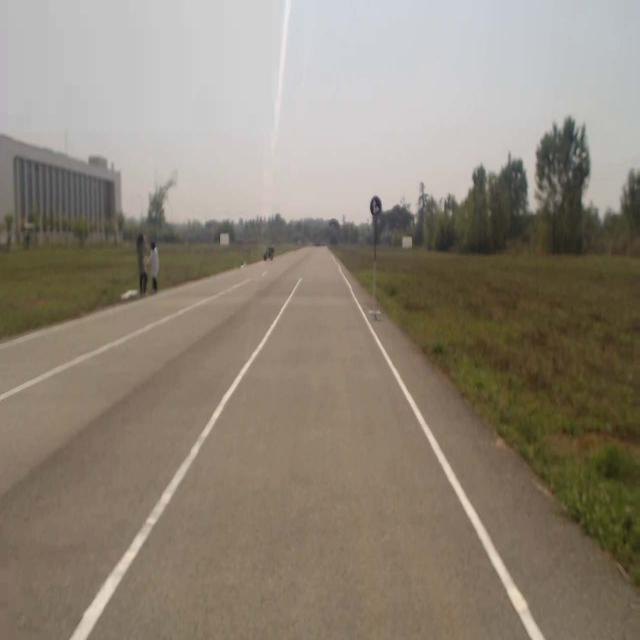ilerisag: (370, 195, 382, 218)
